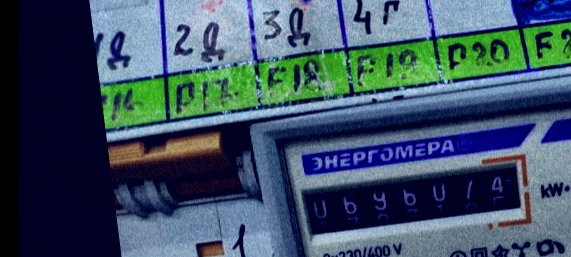0: (307, 193, 329, 219), (428, 176, 447, 203)
4: (486, 169, 504, 192)
5: (490, 193, 508, 210)
6: (399, 179, 419, 207), (339, 189, 359, 215)
7: (458, 173, 478, 200)
9: (369, 184, 388, 212)
screen: (289, 148, 536, 247)
